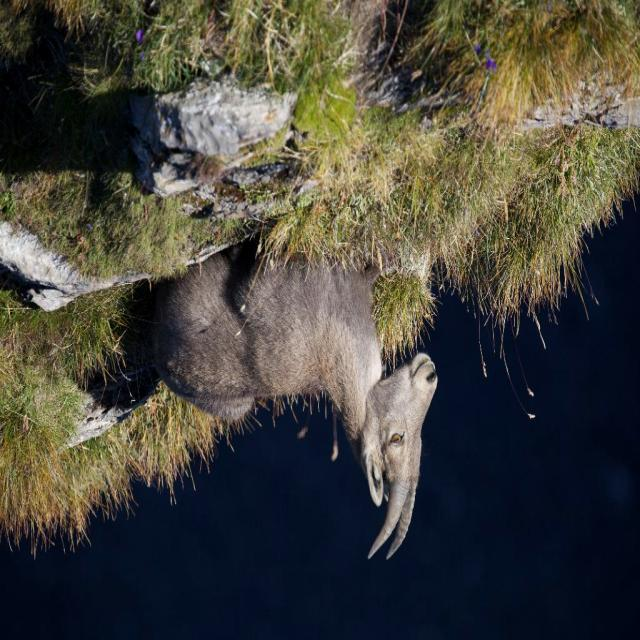Goat: (151, 235, 439, 562)
